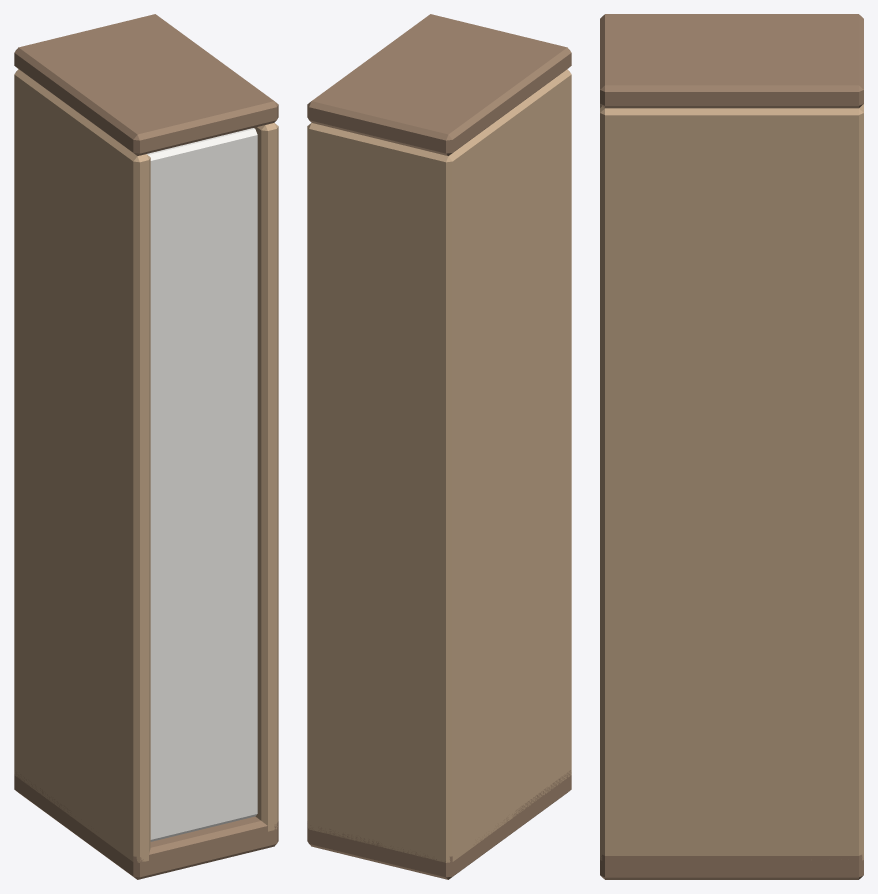
The model's file is PullOutPantry.glb.
3 renders of one model, left to right at view 1: azimuth 30°, elevation 25°; view 2: azimuth 150°, elevation 25°; view 3: azimuth 270°, elevation 25°, orthographic. The views are drawn at different scales.
Parts seen in each view (by area): view 1: PullOutPantry_Carcass, PullOutPantry_Rack; view 2: PullOutPantry_Carcass; view 3: PullOutPantry_Carcass.
Boxes of the visible parts, box(x1,y1,x2,y2) form: PullOutPantry_Carcass: box(14, 14, 278, 879); PullOutPantry_Rack: box(147, 128, 257, 841); PullOutPantry_Carcass: box(307, 14, 571, 879); PullOutPantry_Carcass: box(600, 14, 863, 879).
Bounding box in the file's own units: 0.42 × 2.06 × 0.62.
